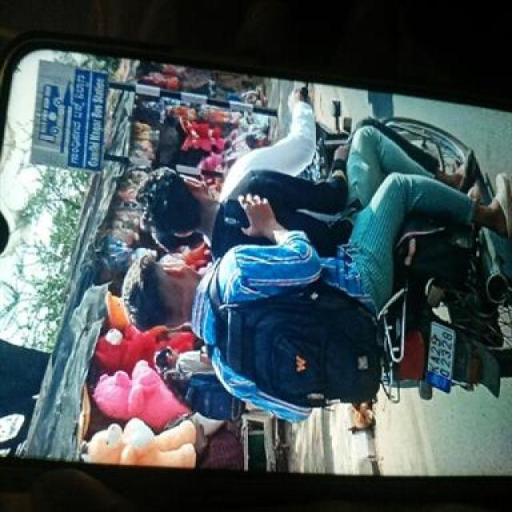tripple riding: (133, 79, 433, 443)
